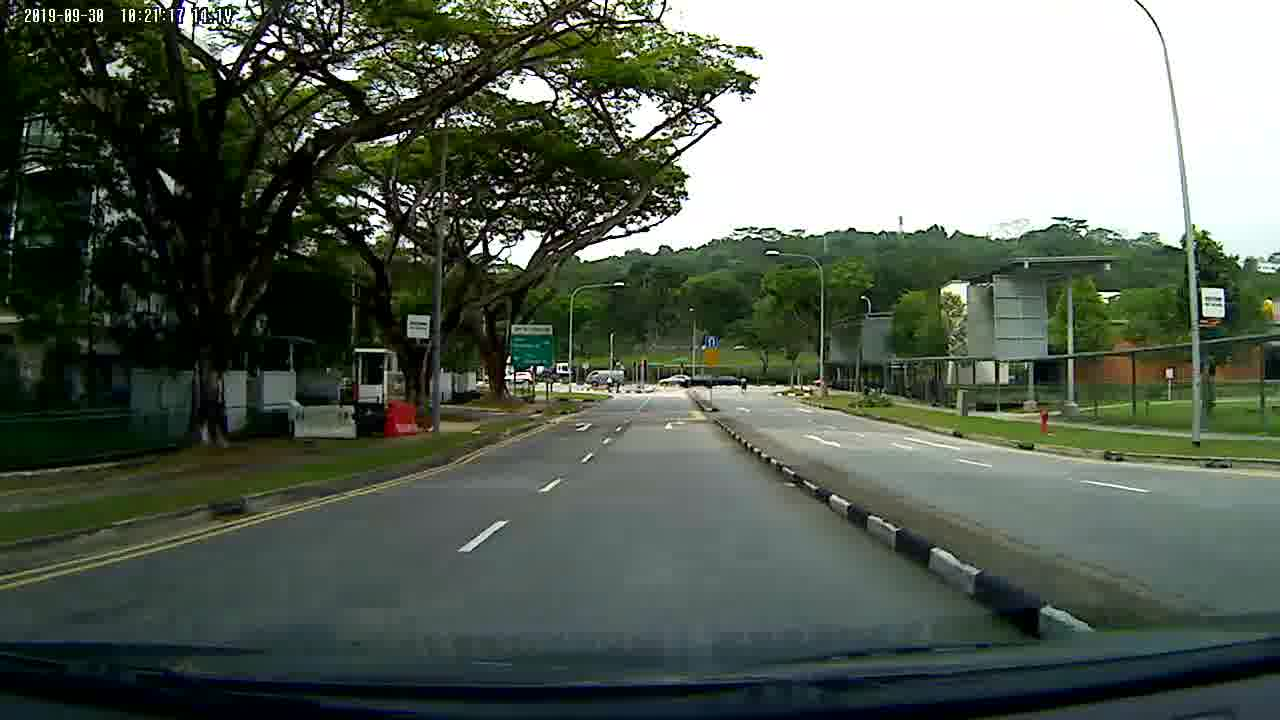car: (503, 370, 534, 385), (656, 374, 687, 388)
